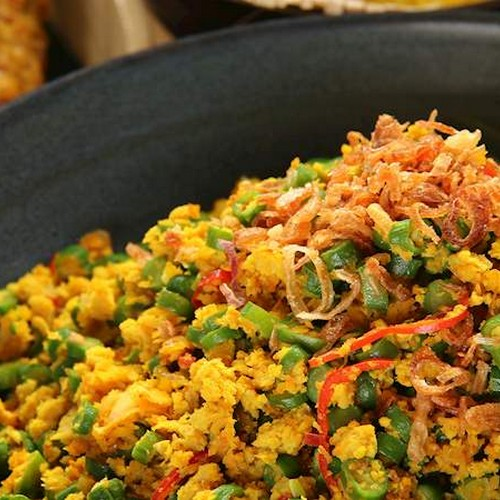lawar: (29, 233, 365, 496)
